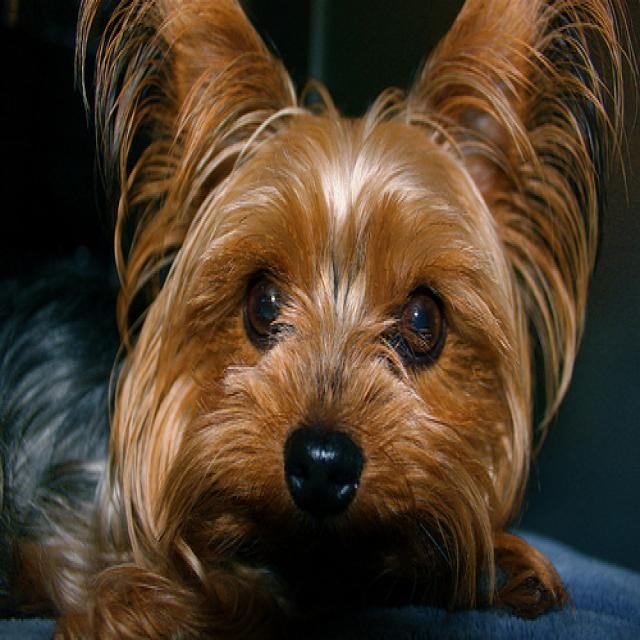dog-yorkshire_terrier: (1, 2, 632, 636)
